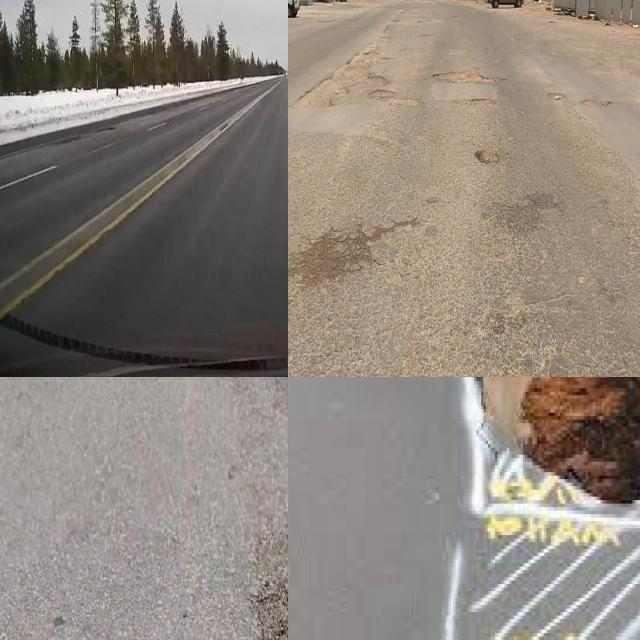Pothole: (476, 377, 640, 507), (297, 36, 417, 106), (436, 67, 498, 83), (474, 149, 500, 165), (458, 98, 492, 107), (582, 100, 611, 107), (548, 93, 566, 100)
